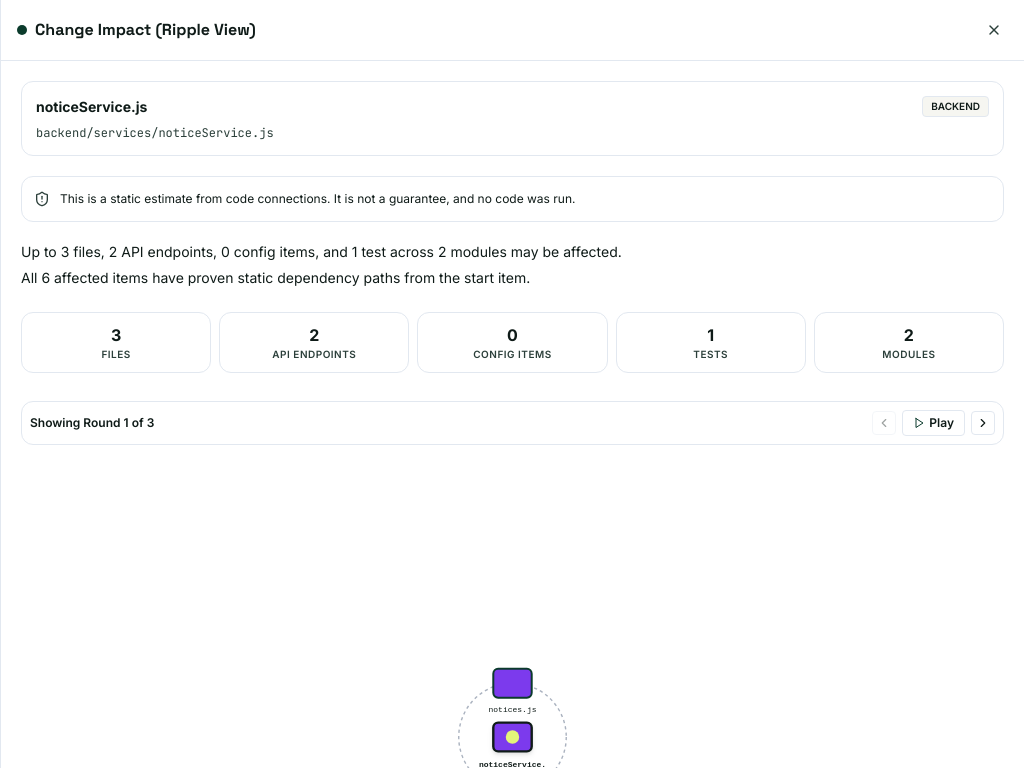
Ripple View UI & Impact Tests (Step P2-A2 Part 3) › 16. Play reveals rounds progressively every 800 ms with fake timers, stops at last round
Note: Click Play to start from round 1
What coordinates should you click on to do the following:
click the button with test id "round-play-btn"
I would click on:
 (934, 422)
Its box is [902, 410, 965, 436].
Wait 2400 ms
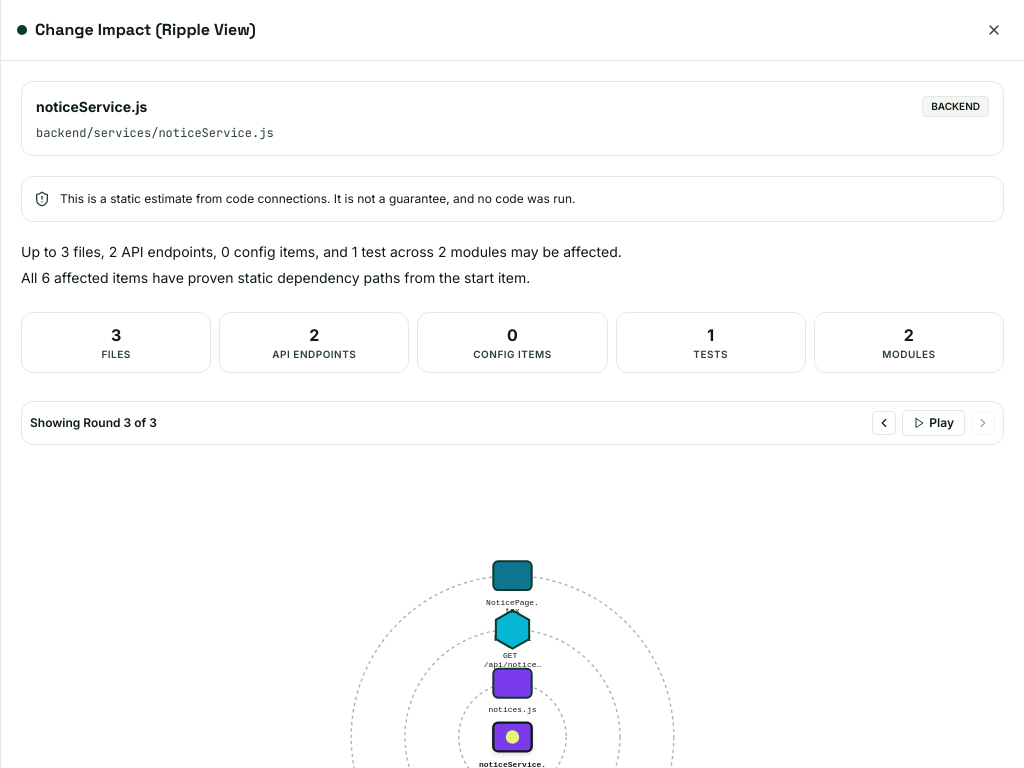
Expected: the text "Showing Round 3 of 3" is shown, [30, 414, 157, 430]
